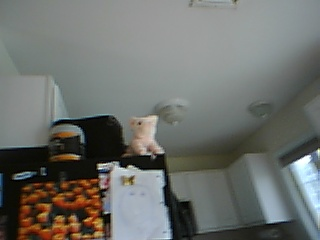piggy: (122, 114, 166, 158)
